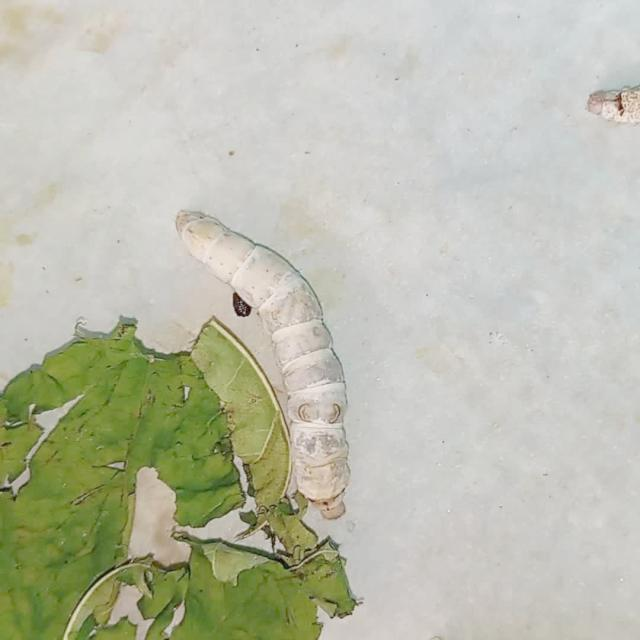Grasserie: (174, 177, 400, 546)
